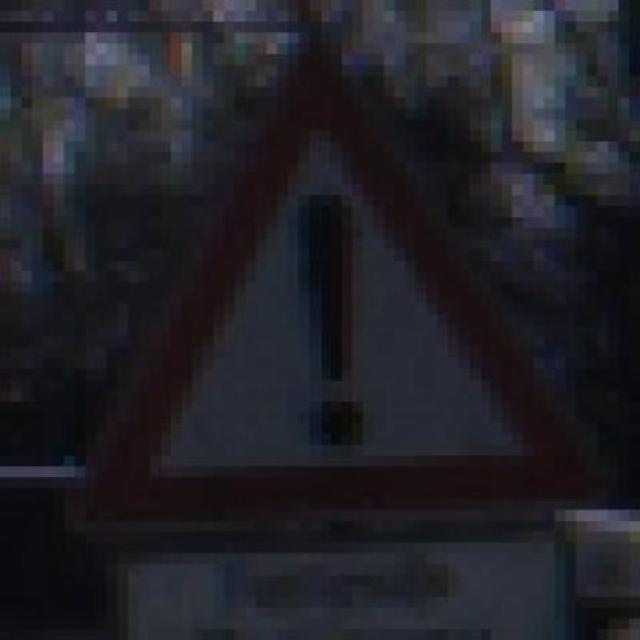Attention Please-: (53, 43, 598, 532)
